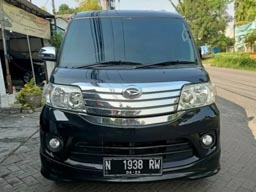plat: (104, 157, 160, 169)
